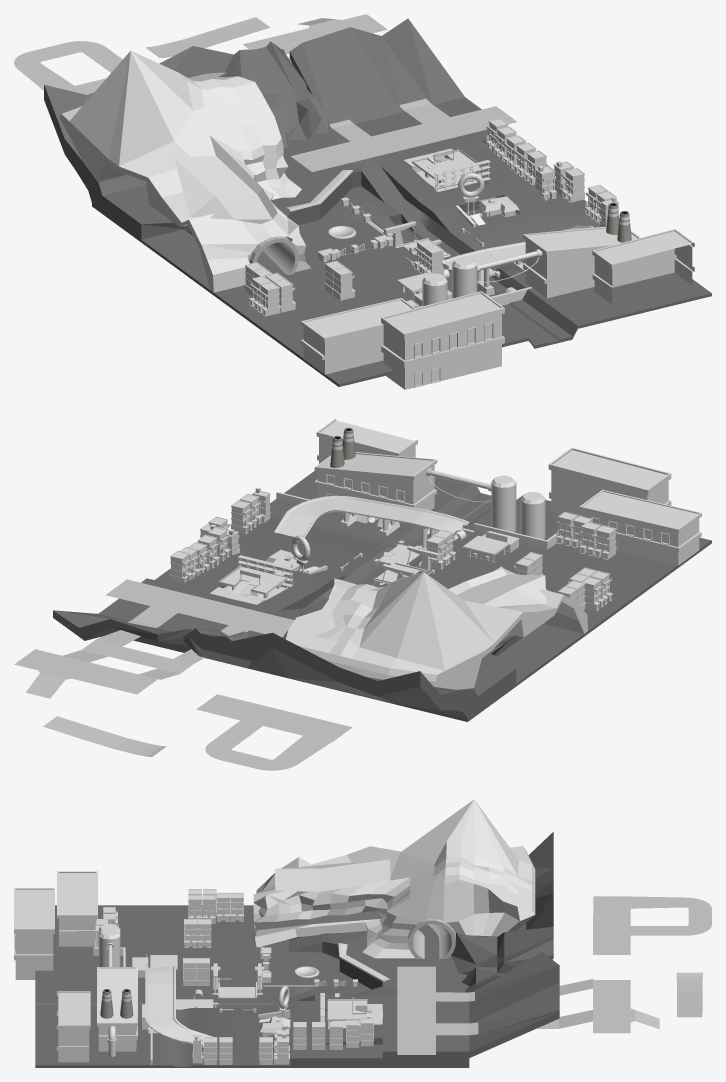
Rendered from mapwithroad.FBX.
The picture shows the model from 3 angles, top to bottom: view 1: azimuth 30°, elevation 25°; view 2: azimuth 150°, elevation 25°; view 3: azimuth 270°, elevation 25°; orthographic projection. The views are drawn at different scales.
Parts seen in each view (by area): view 1: Object053, Homemade_Mountain, Object050, Box294, Box293, Box285, Box295, Box157, Object054, Cylinder037, Cylinder038, Box151 (+1 smaller); view 2: Object053, Homemade_Mountain, Object050, Box293, Box285, Box294, Box295, Box219, Box157, Cylinder037, Box215, Cylinder038 (+4 smaller); view 3: Object053, Homemade_Mountain, Object050, Box294, Box293, Box285, Box295, Object054, Box215, Box157, Box219, Box151 (+2 smaller).
Boxes of the visible parts, x1=… form: Object053: x1=44, y1=18, x2=711, y2=386; Homemade_Mountain: x1=59, y1=50, x2=310, y2=292; Object050: x1=14, y1=14, x2=517, y2=171; Box294: x1=381, y1=291, x2=504, y2=389; Box293: x1=301, y1=298, x2=414, y2=374; Box285: x1=523, y1=226, x2=640, y2=298; Box295: x1=592, y1=229, x2=694, y2=304; Box157: x1=412, y1=149, x2=482, y2=189; Object054: x1=249, y1=150, x2=298, y2=274; Cylinder037: x1=452, y1=257, x2=477, y2=298; Cylinder038: x1=422, y1=273, x2=447, y2=306; Box151: x1=382, y1=221, x2=450, y2=260; Object053: x1=53, y1=470, x2=711, y2=721; Homemade_Mountain: x1=282, y1=566, x2=587, y2=689; Object050: x1=14, y1=579, x2=352, y2=770; Box293: x1=579, y1=489, x2=701, y2=565; Box285: x1=314, y1=452, x2=437, y2=510; Box294: x1=548, y1=447, x2=671, y2=516; Box295: x1=316, y1=418, x2=417, y2=463; Box219: x1=274, y1=495, x2=356, y2=537; Box157: x1=218, y1=565, x2=287, y2=601; Cylinder037: x1=491, y1=475, x2=516, y2=532; Box215: x1=339, y1=497, x2=426, y2=523; Cylinder038: x1=520, y1=492, x2=545, y2=539; Object053: x1=35, y1=832, x2=559, y2=1067; Homemade_Mountain: x1=253, y1=799, x2=535, y2=958; Object050: x1=397, y1=896, x2=711, y2=1054; Box294: x1=14, y1=888, x2=54, y2=979; Box293: x1=57, y1=871, x2=97, y2=946; Box285: x1=97, y1=967, x2=137, y2=1051; Box295: x1=56, y1=991, x2=90, y2=1062; Object054: x1=253, y1=894, x2=455, y2=958; Box215: x1=145, y1=982, x2=175, y2=1018; Box157: x1=327, y1=999, x2=382, y2=1029; Box219: x1=145, y1=1016, x2=213, y2=1047; Box151: x1=211, y1=963, x2=264, y2=998.
Bounding box in the file's own units: 15076 × 6123 × 26715.
